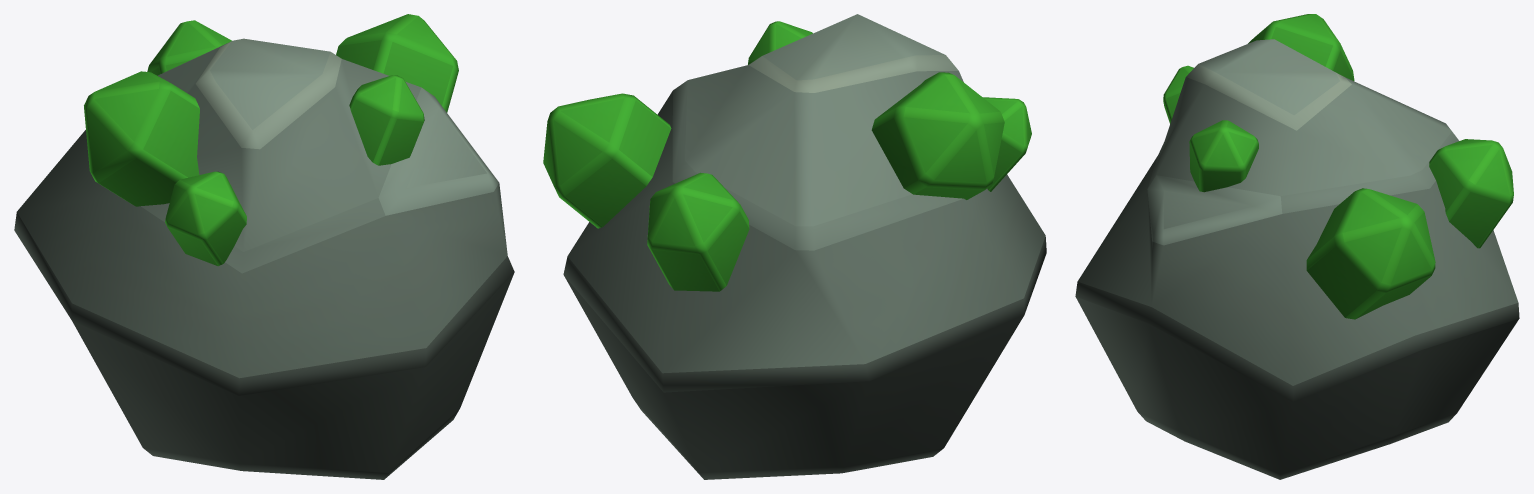
The model's file is ore_christal_emerald_M.fbx.
The picture shows the model from 3 angles, left to right: view 1: azimuth 30°, elevation 25°; view 2: azimuth 150°, elevation 25°; view 3: azimuth 270°, elevation 25°; orthographic projection. The views are drawn at different scales.
Parts seen in each view (by area): view 1: ore_christal_emerald_M; view 2: ore_christal_emerald_M; view 3: ore_christal_emerald_M.
Part boxes in pixels (x1,y1,x2,y2): ore_christal_emerald_M: (14, 14, 514, 479); ore_christal_emerald_M: (543, 14, 1046, 479); ore_christal_emerald_M: (1075, 14, 1519, 479).
Bounding box in the file's own units: 139 × 132 × 139.
1 material, 1 textured.
